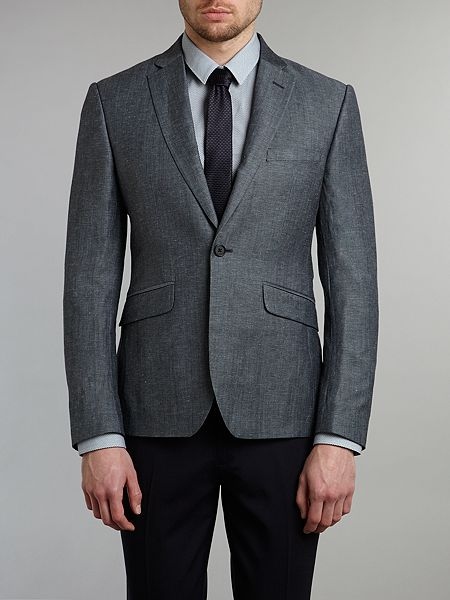F_M_suit jacket: (57, 47, 379, 439)
F_dress pants: (109, 410, 328, 589)
F_tie: (200, 64, 239, 211)
